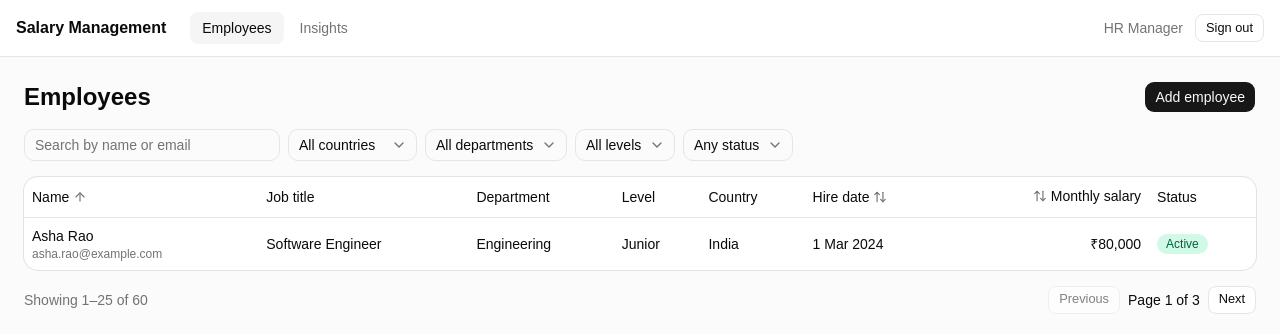
employee list › moves between pages, and cannot go before the first
expect the text "Page 1 of 3" is shown: met, box [1128,290,1200,310]
expect the button "Previous" is disabled: met, box [1048,286,1120,314]
Click the button "Next" at (1232, 300), box [1208,286,1256,314]
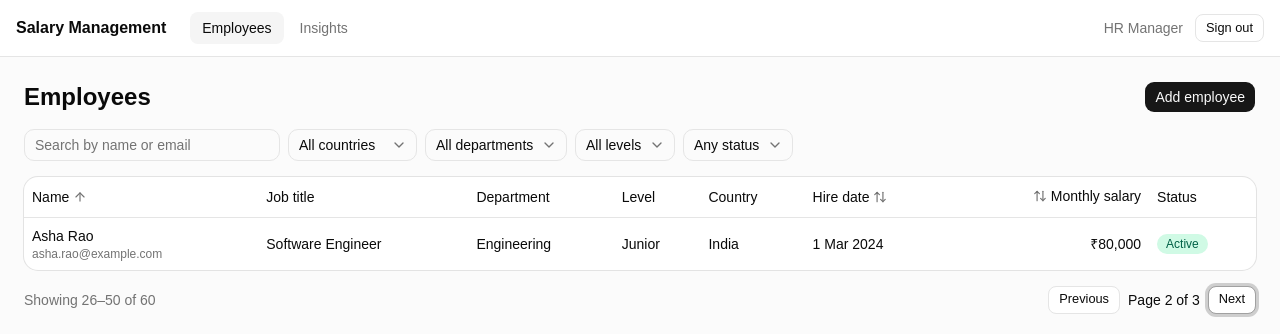
expect the text "Page 2 of 3" is shown: met, box [1128,290,1200,310]
